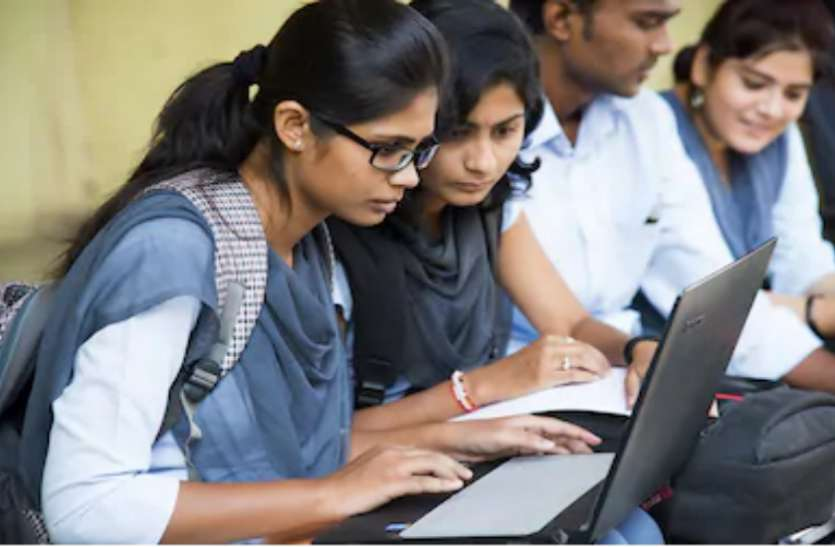Person: (23, 1, 602, 547), (332, 1, 661, 427), (506, 1, 835, 426), (636, 1, 835, 331)
